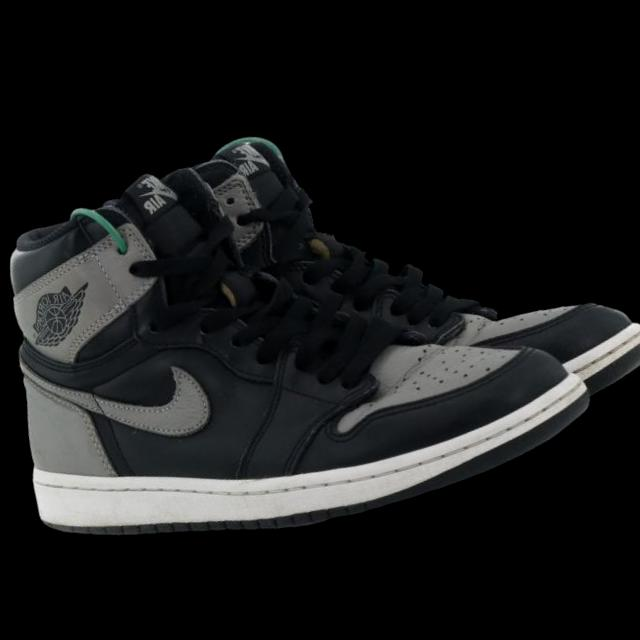nike_original_jordan: (0, 83, 601, 590), (149, 49, 640, 485)
